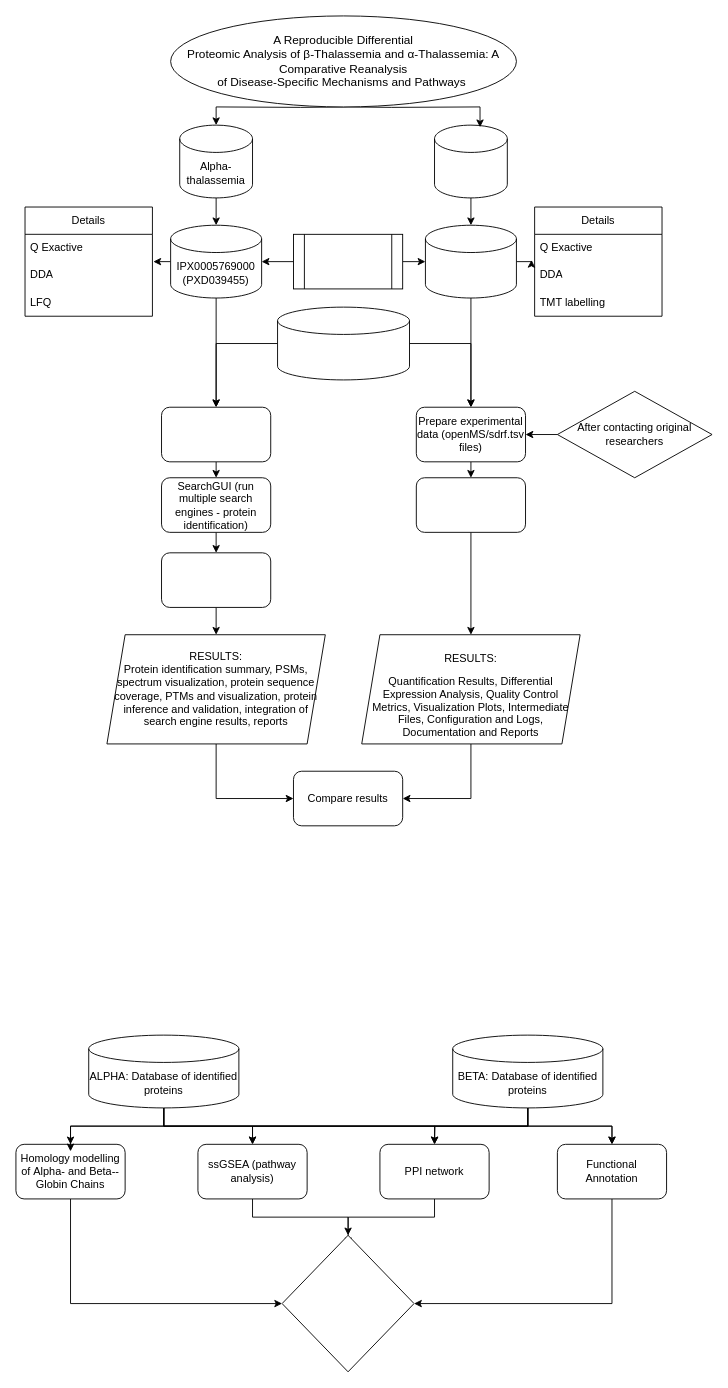
The diagram is 728 pixels wide and 1388 high, and some of its shapes have lost their labels. The centre of each missing label's shape, as x and y in pixels:
"Beta-thalassemia" belongs at point (470, 161).
"Comparison of alpha- and beta- thalassemia" belongs at point (347, 1303).
"Data found in iProX and downloaded with Aspera" belongs at point (348, 261).
"IPX0004189000 (PXD032179)" belongs at point (470, 261).
"PeptideShaker (interpretation of proteomics identification)" belongs at point (216, 579).
"Prepare Human Reference Proteome + contaminants database" belongs at point (343, 343).
"Run files on nf-core/quantms (protein identification and quantification)" belongs at point (470, 504).
"ThermoRawFileParser (convert .raw to .mzML)" belongs at point (216, 434).
